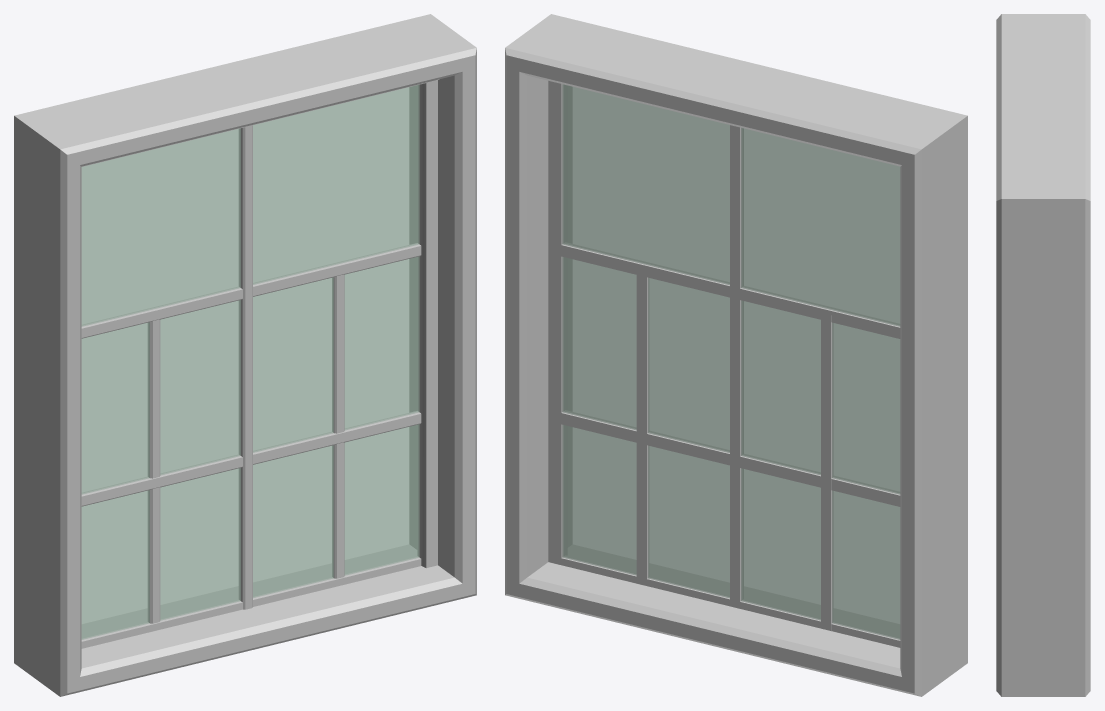
The model's file is LivingRoomWin02.FBX.
The picture shows the model from 3 angles, left to right: view 1: azimuth 30°, elevation 25°; view 2: azimuth 150°, elevation 25°; view 3: azimuth 270°, elevation 25°; orthographic projection. The views are drawn at different scales.
Parts seen in each view (by area): view 1: LivingRoomWin02; view 2: LivingRoomWin02; view 3: LivingRoomWin02.
Boxes of the visible parts, x1=… form: LivingRoomWin02: x1=14, y1=14, x2=476, y2=696; LivingRoomWin02: x1=505, y1=14, x2=967, y2=696; LivingRoomWin02: x1=996, y1=14, x2=1090, y2=696.
Bounding box in the file's own units: 153 × 32.88 × 192.
